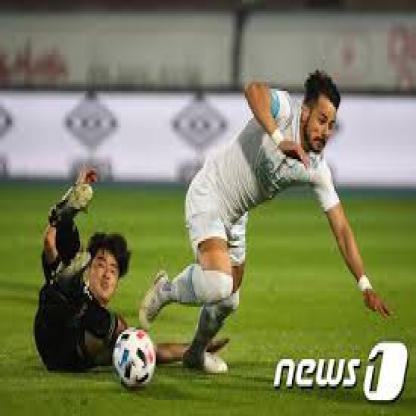Fall_Down: (32, 165, 230, 376)
